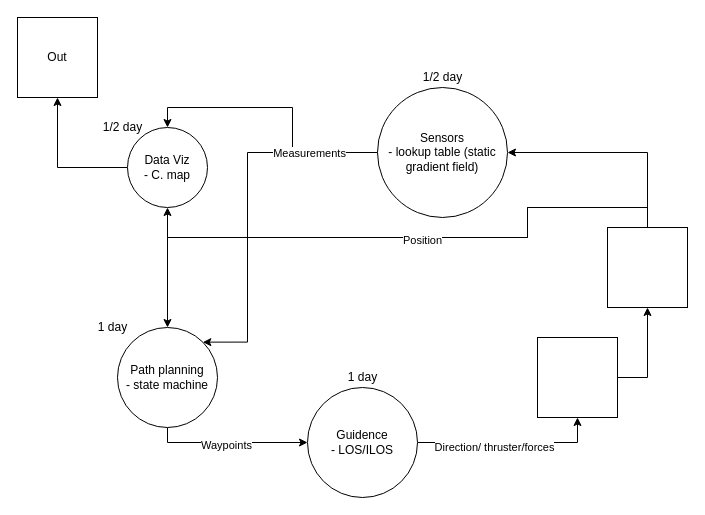
Some shapes in this 705 by 515 pixel diagram are drawn without their labels. The box of each missing label's shape, as (x1, y1, x2, y2) in pixels:
Control: (536, 336, 618, 418)
Position est: (606, 226, 688, 308)
